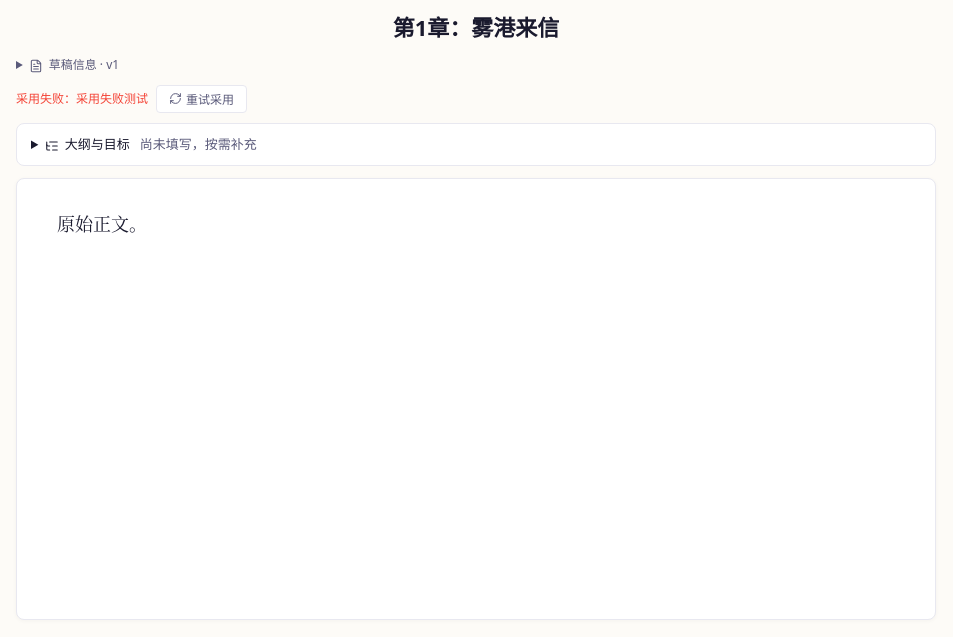
Test: editor persistence and adoption feedback › retries adoption from its inline error without converting the saved draft into a save error
The width and height of the screenshot is (953, 637).
Click the button "重试采用" at coordinates (202, 99), box [156,85,247,113]
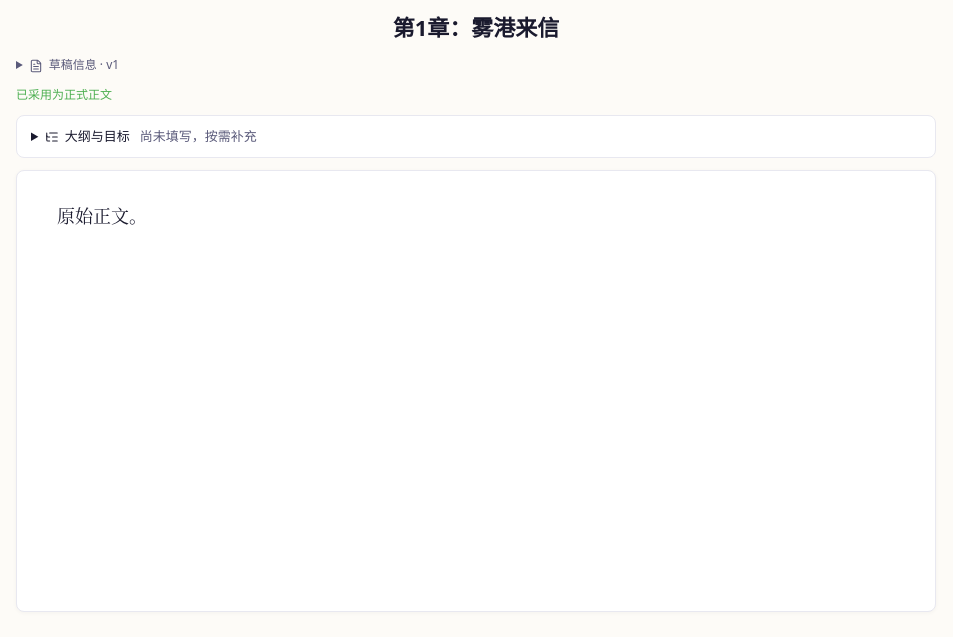
Now the message with test id "editor-adopt-feedback" reads "已采用为正式正文", box [16,86,112,103]
